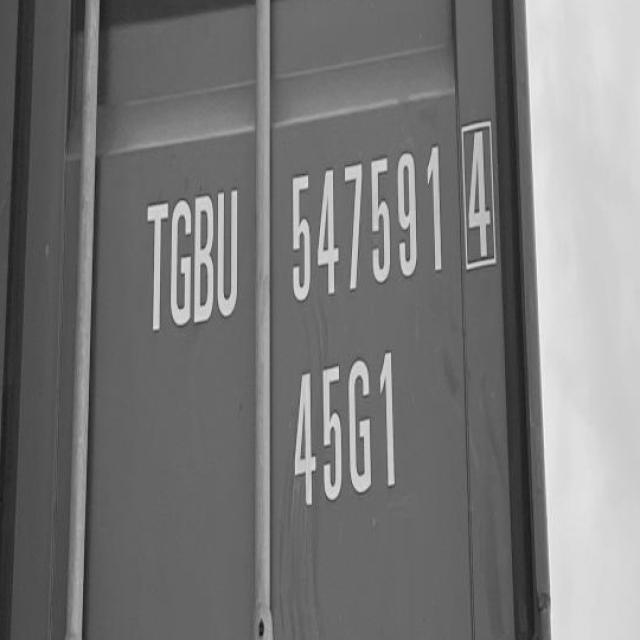dv: (450, 103, 504, 280)
owner: (131, 183, 249, 339)
serial: (284, 135, 450, 315)
size: (284, 330, 416, 529)
